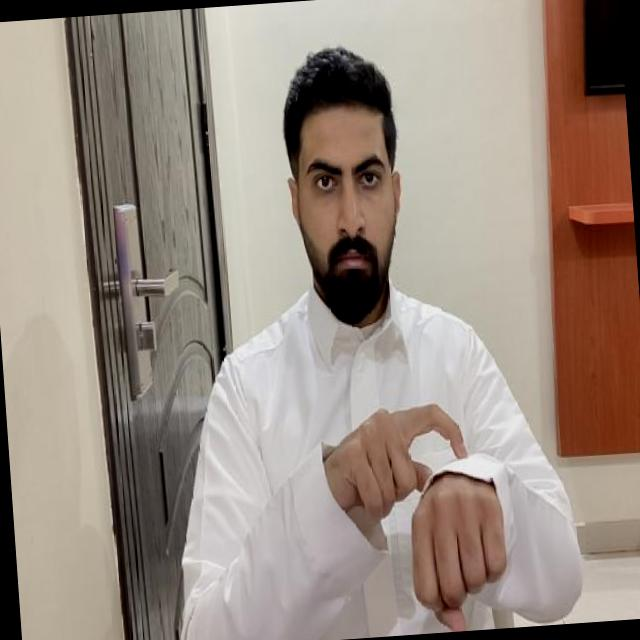appointment: (312, 393, 516, 640)
